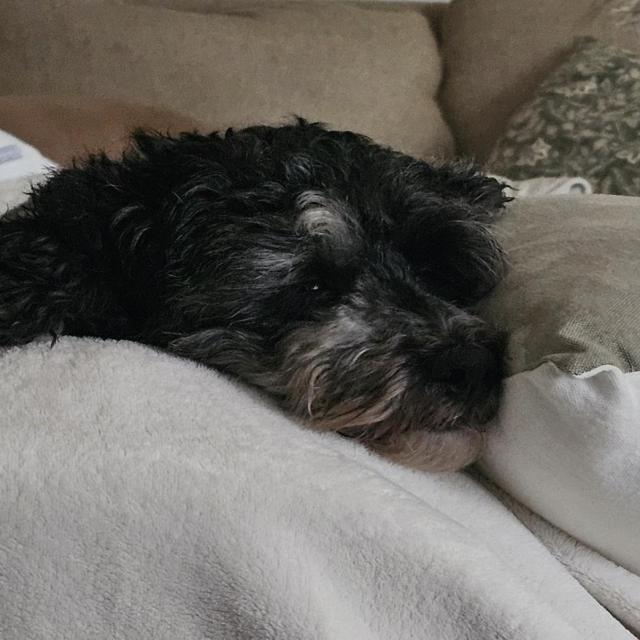Poodle_dog: (6, 104, 542, 473)
